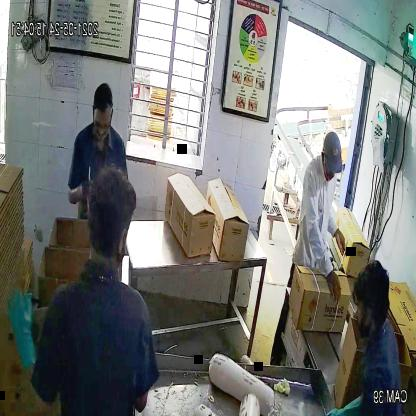goggles: (92, 109, 115, 136)
